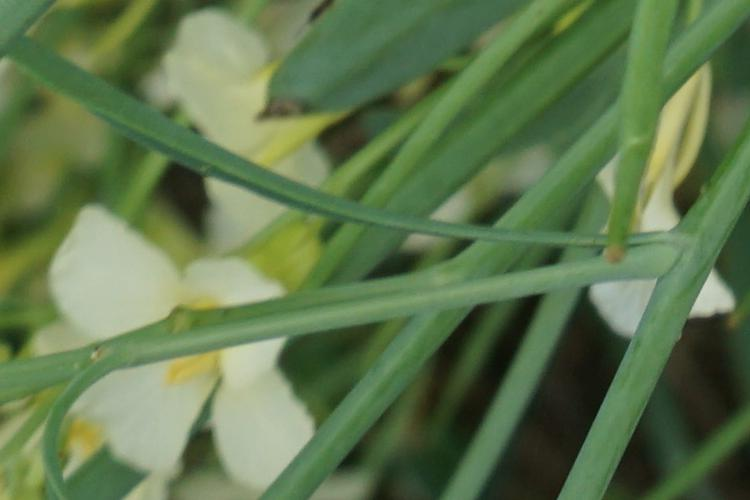white: (51, 218, 341, 468), (166, 32, 349, 222), (577, 124, 732, 346)
